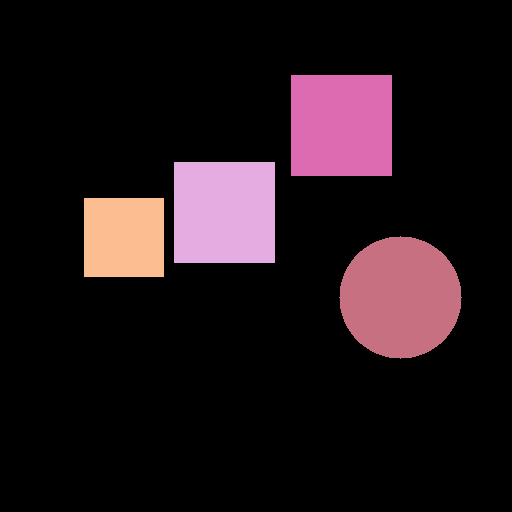circle: (339, 236, 461, 358)
square: (174, 162, 274, 262), (291, 75, 391, 175), (84, 198, 163, 276)
